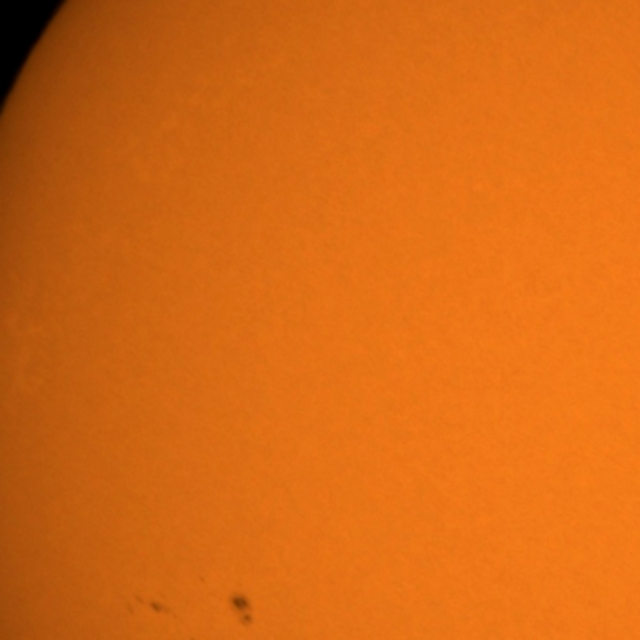sunspot: (124, 592, 166, 618), (227, 591, 256, 628), (197, 574, 207, 586)
